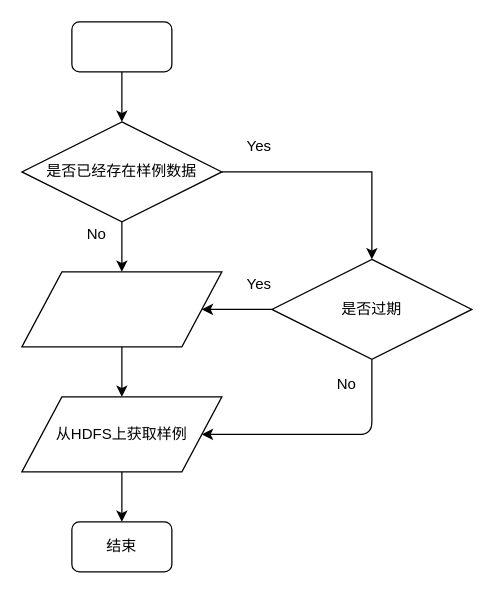
Image size: 494x594. Some labels were removed from this diagram. The box of each missing label's shape, as (x1, y1, x2, y2) in pixels:
从数据源获取样例数据 并存储到HDFS上: (21, 271, 222, 347)
开始: (71, 21, 172, 72)
